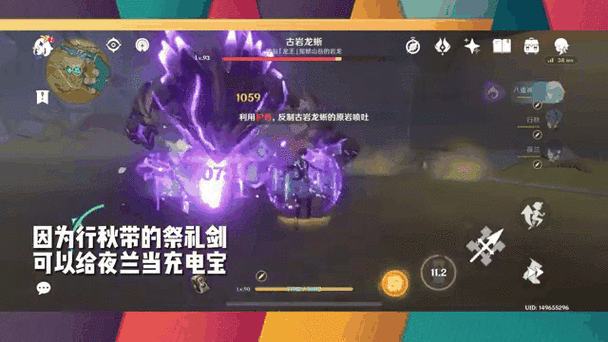夜兰: (543, 139, 567, 166)
